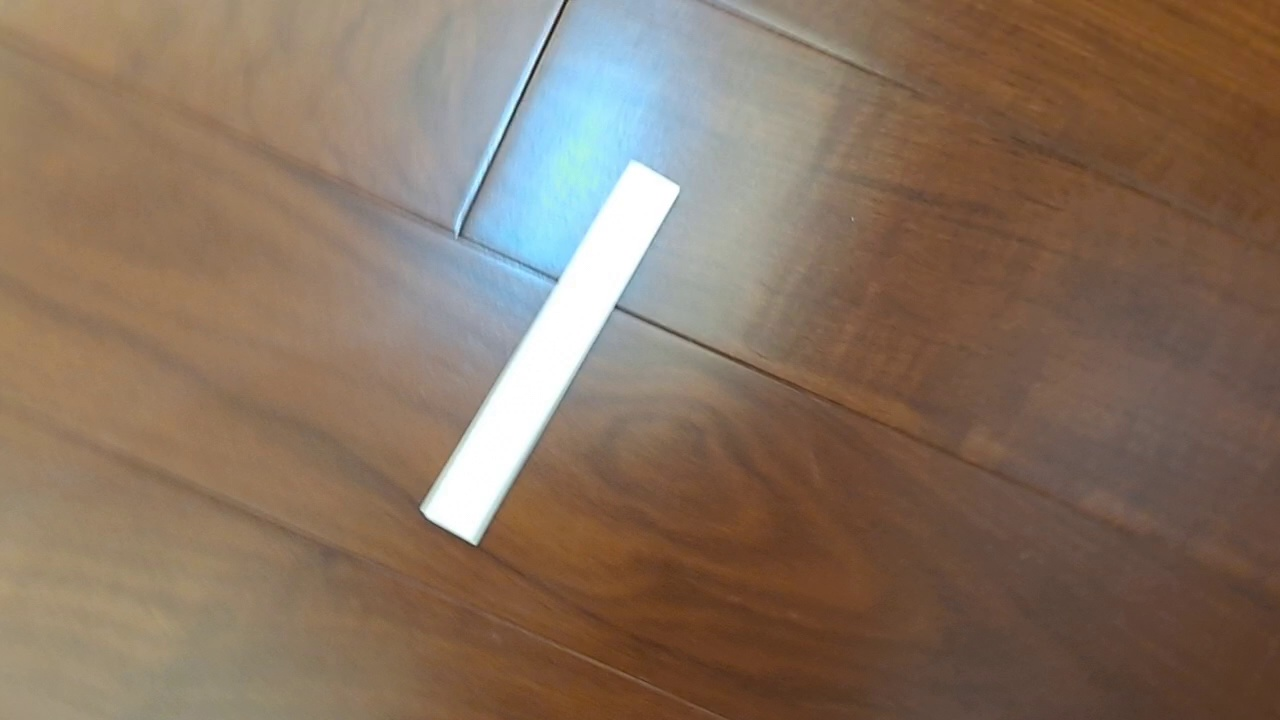ruler: (417, 158, 681, 548)
